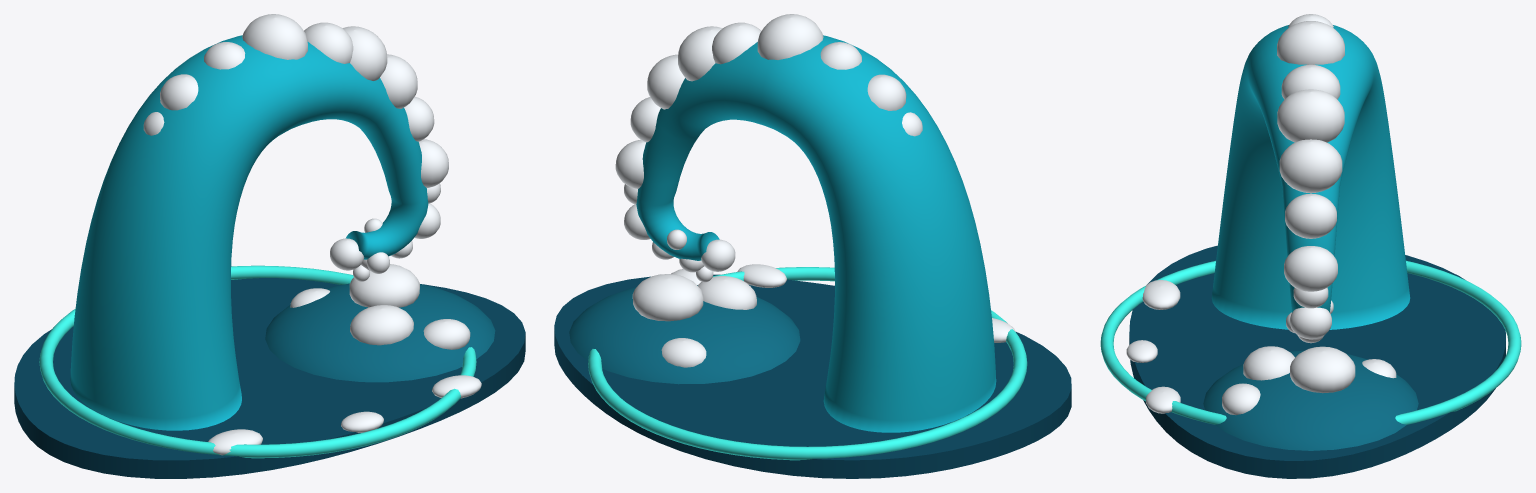
The model's file is neon_wave.obj.
3 renders of one model, left to right at view 1: azimuth 30°, elevation 25°; view 2: azimuth 150°, elevation 25°; view 3: azimuth 270°, elevation 25°, orthographic. The views are drawn at different scales.
Parts seen in each view (by area): view 1: WaveBody, PuddleCap, Foam, Swell, NeonRing, PuddleSide, FoamStreak; view 2: WaveBody, PuddleCap, Foam, Swell, NeonRing, PuddleSide, FoamStreak; view 3: WaveBody, PuddleCap, Foam, Swell, NeonRing, PuddleSide, FoamStreak.
Part boxes in pixels (bbox=[...]): WaveBody: bbox=[70, 35, 428, 430]; PuddleCap: bbox=[14, 278, 525, 460]; Foam: bbox=[143, 14, 470, 349]; Swell: bbox=[265, 283, 495, 382]; NeonRing: bbox=[39, 265, 476, 458]; PuddleSide: bbox=[14, 333, 525, 478]; FoamStreak: bbox=[208, 375, 481, 455]; WaveBody: bbox=[636, 35, 996, 432]; PuddleCap: bbox=[554, 274, 1071, 460]; Foam: bbox=[615, 14, 922, 367]; Swell: bbox=[569, 285, 800, 384]; NeonRing: bbox=[588, 267, 1027, 460]; PuddleSide: bbox=[554, 328, 1071, 478]; FoamStreak: bbox=[737, 264, 1015, 342]; WaveBody: bbox=[1211, 25, 1410, 329]; PuddleCap: bbox=[1129, 245, 1505, 460]; Foam: bbox=[1222, 14, 1396, 415]; Swell: bbox=[1203, 350, 1418, 450]; NeonRing: bbox=[1100, 260, 1521, 424]; PuddleSide: bbox=[1129, 335, 1505, 478]; FoamStreak: bbox=[1126, 280, 1180, 413].
Bounding box in the file's own units: 11.27 × 8.19 × 8.98.
